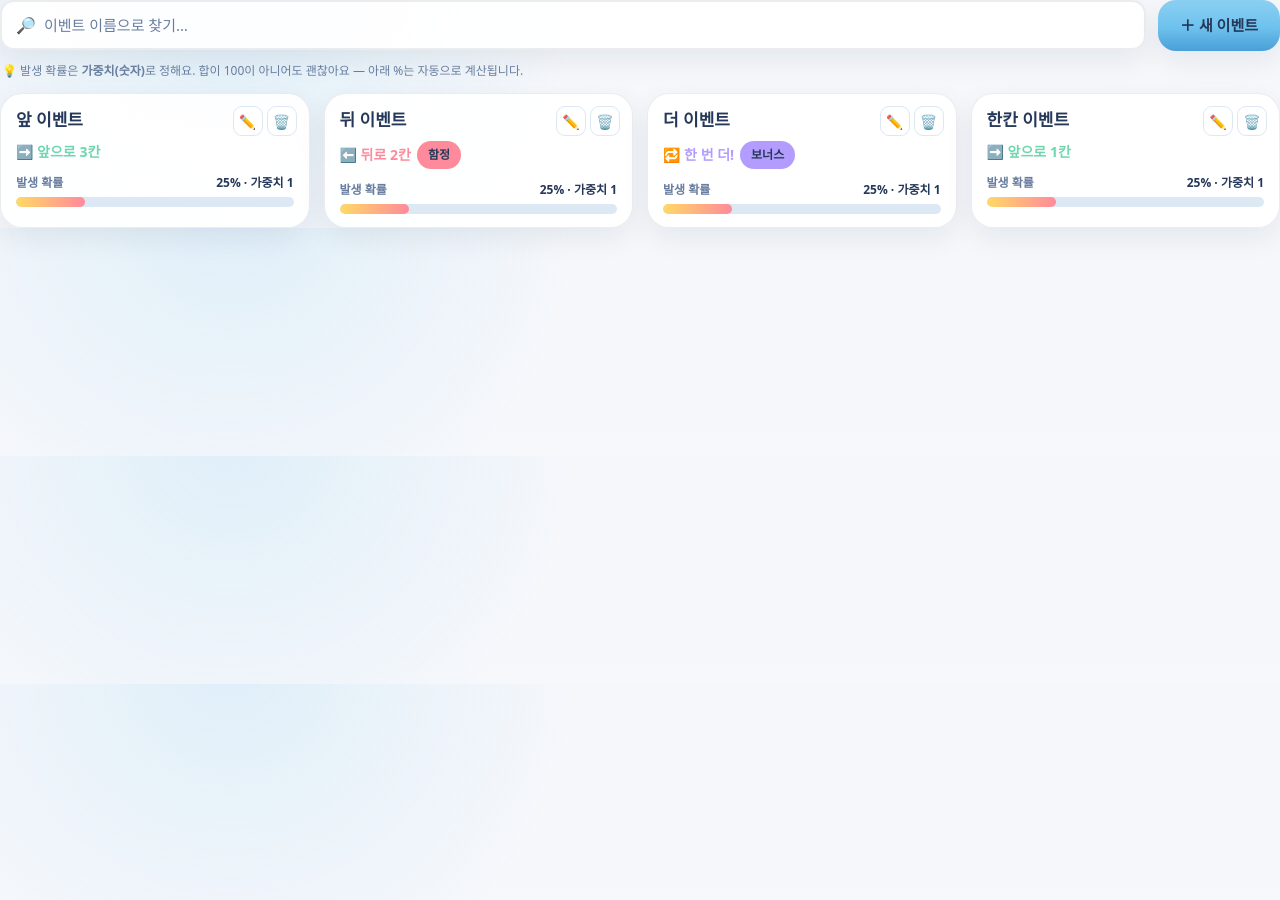
Test: EventTab (search + live probability + edit/delete) › re-derives every event % live when one weight is edited, without altering others (D-05)
// Edit ev1's weight to 5 → total 8: ev1 63%, the three weight-1 events 13%.
Click the button named "앞 이벤트 수정" at (248, 121), box x1=232 y1=106 x2=262 y2=136
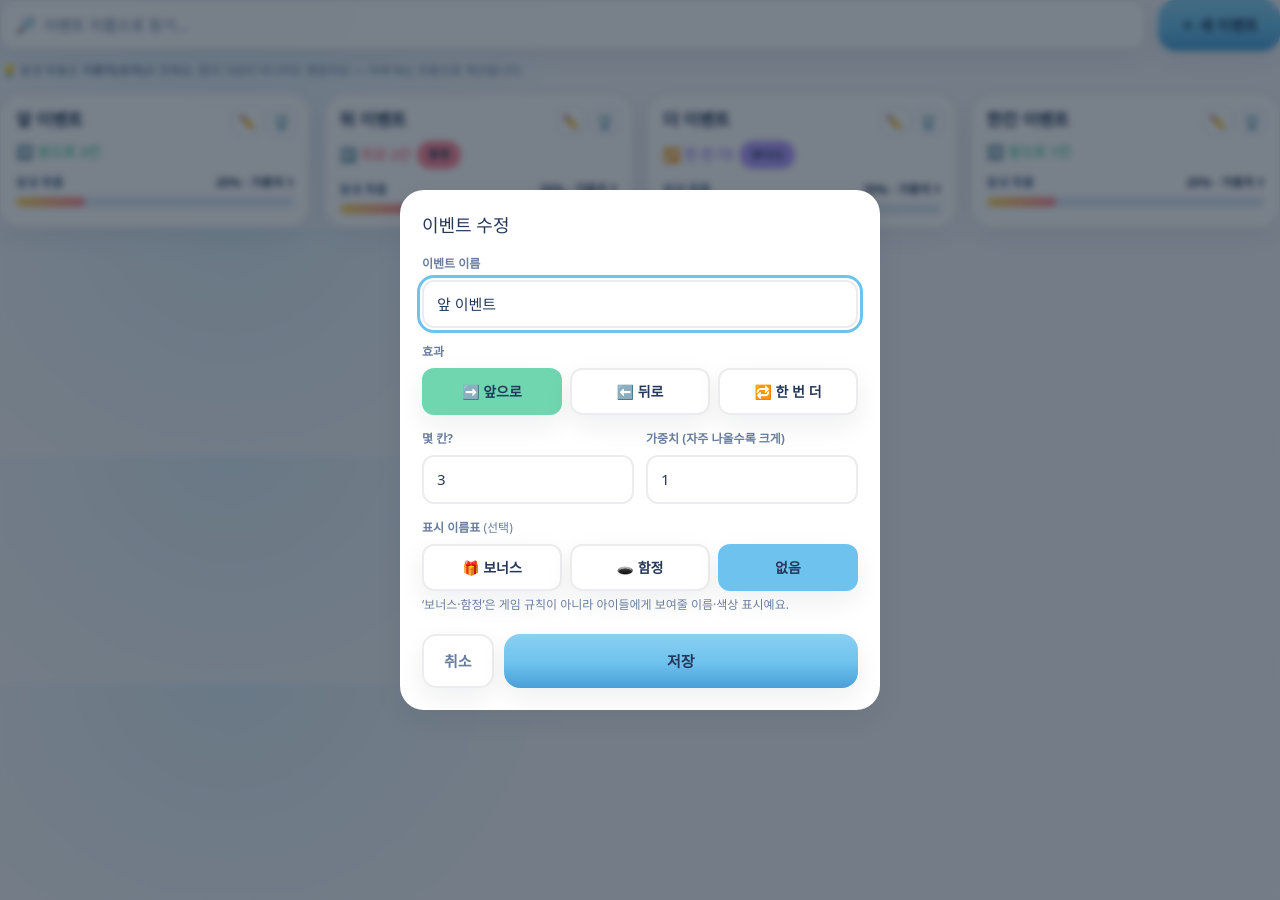
Replace the text in the number field labelled "가중치 (자주 나올수록 크게)" with "5" at (752, 480), box x1=646 y1=455 x2=858 y2=504
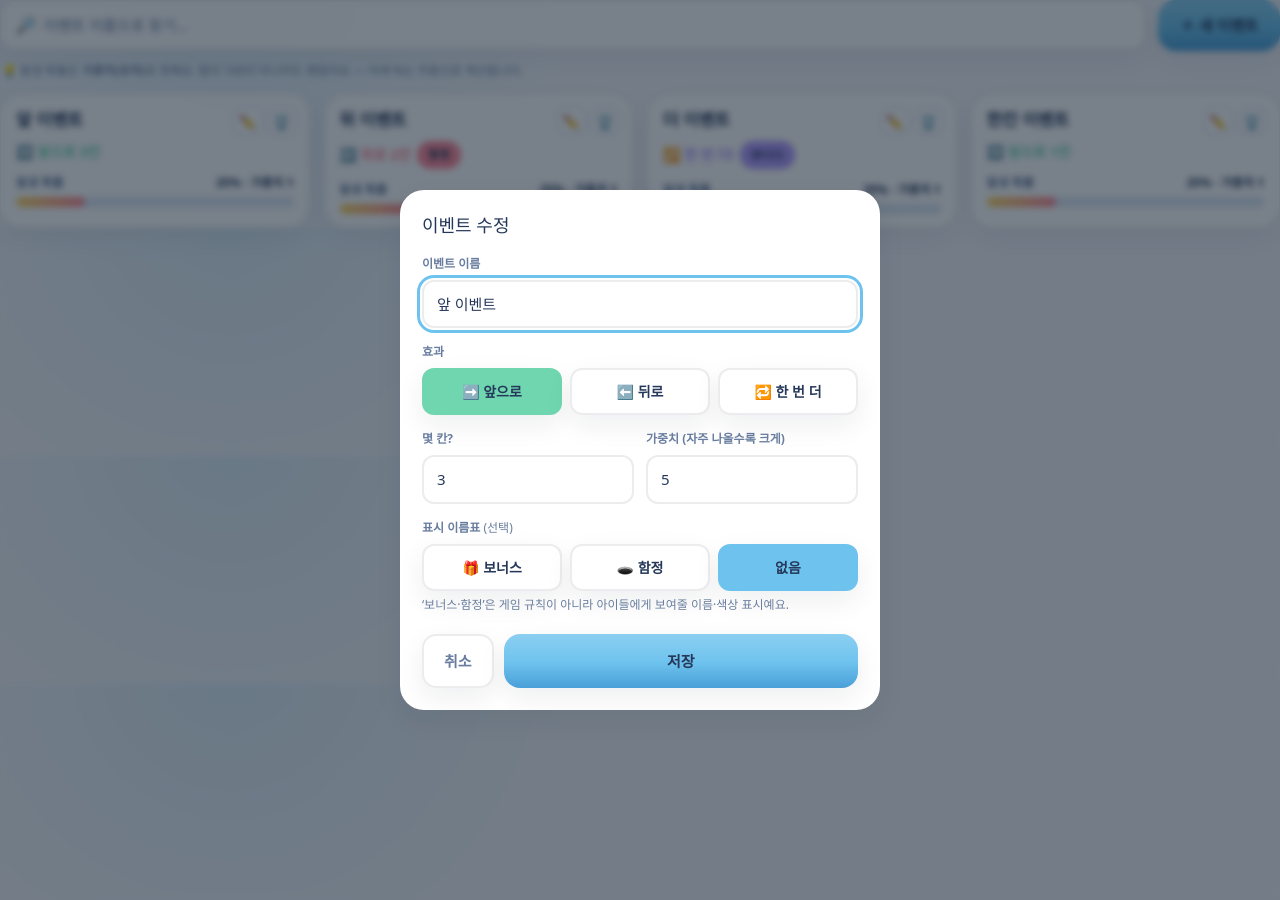
Click the button "저장" at (681, 661), box x1=504 y1=634 x2=858 y2=688
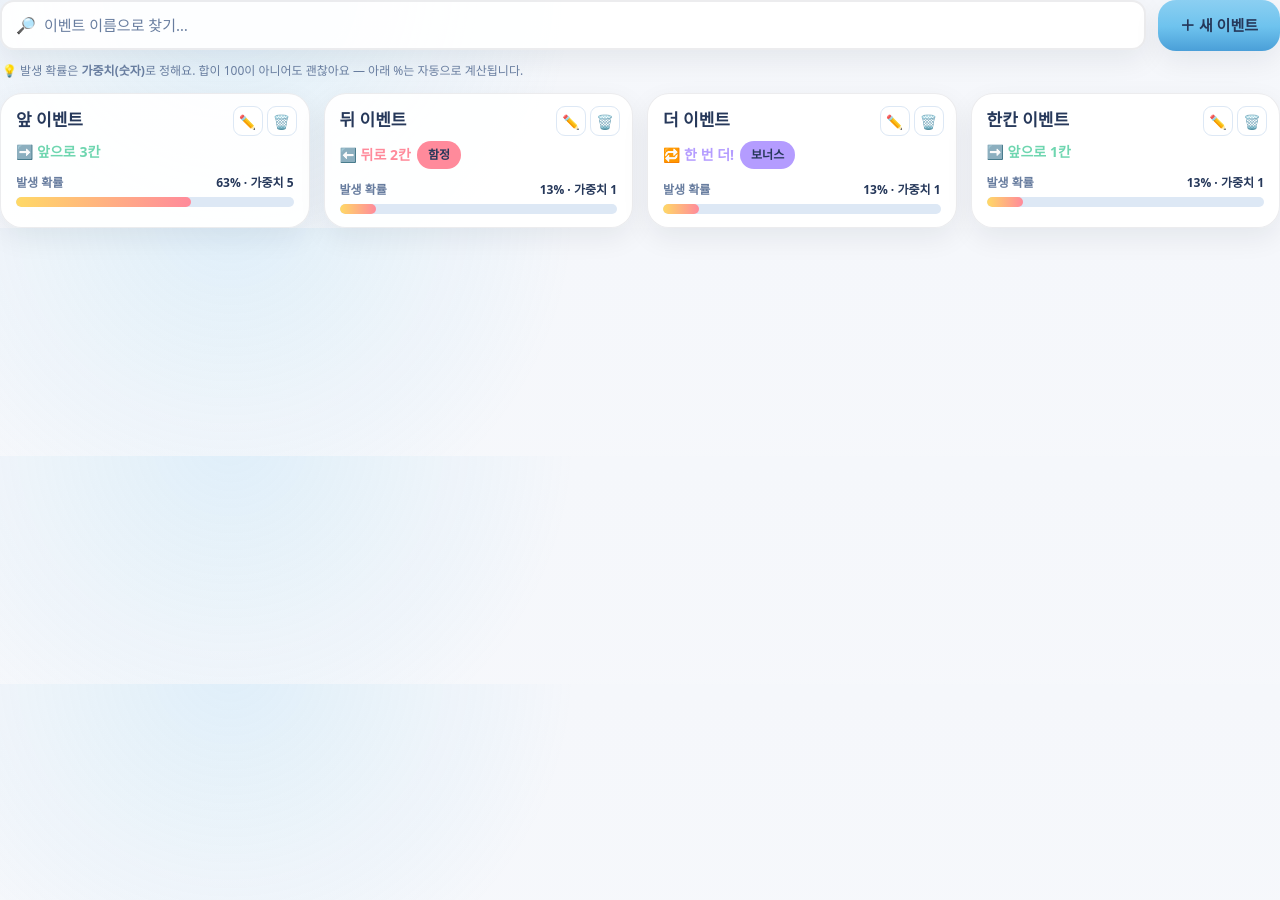
Expected: the text "13% · 가중치 1" is shown 3 times, x1=540 y1=180 x2=617 y2=198; x1=863 y1=180 x2=940 y2=198; x1=1187 y1=174 x2=1264 y2=192
Expected: the text "63% · 가중치 5" is shown, x1=216 y1=174 x2=294 y2=192
